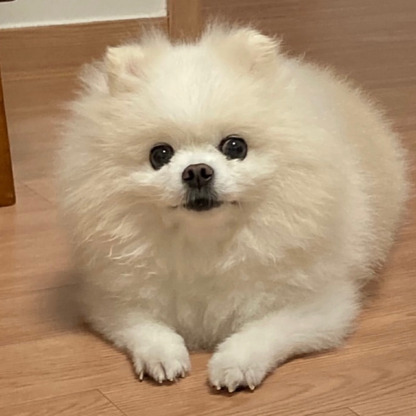Pomeranian: (66, 30, 393, 385)
